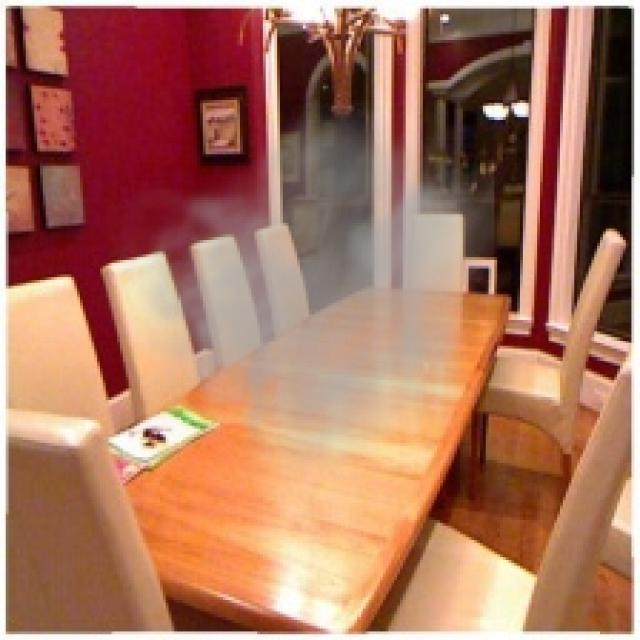Smoke: (100, 88, 494, 486)
